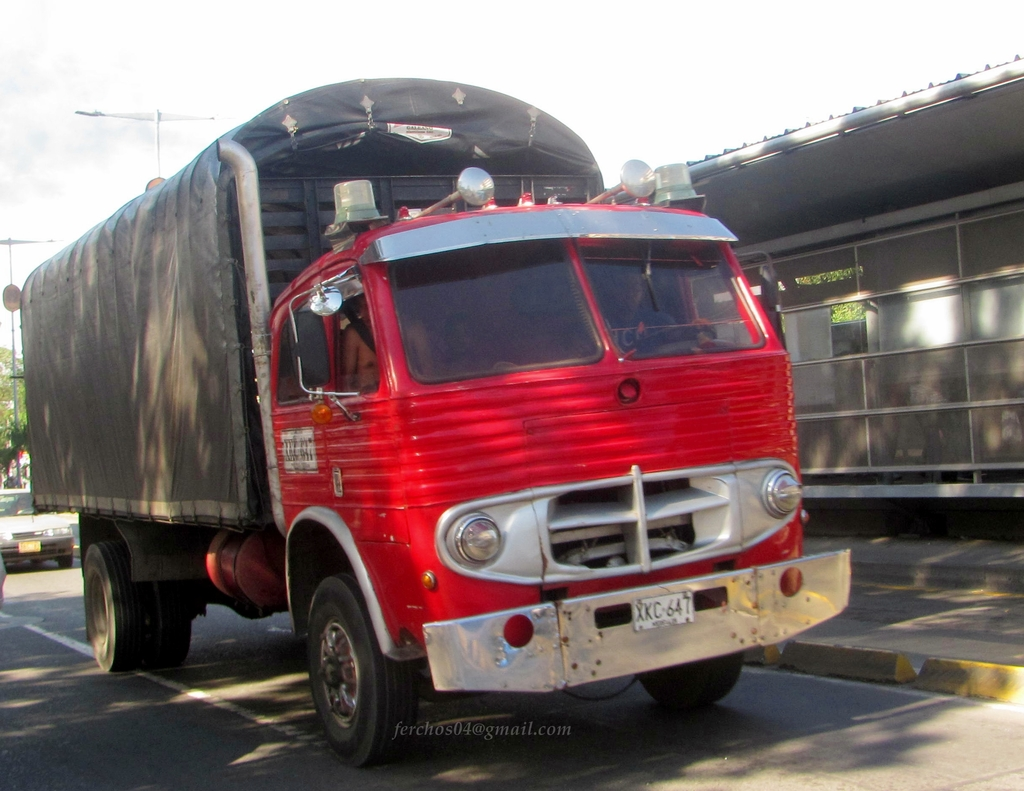Car: (0, 489, 70, 569), (0, 554, 7, 594)
